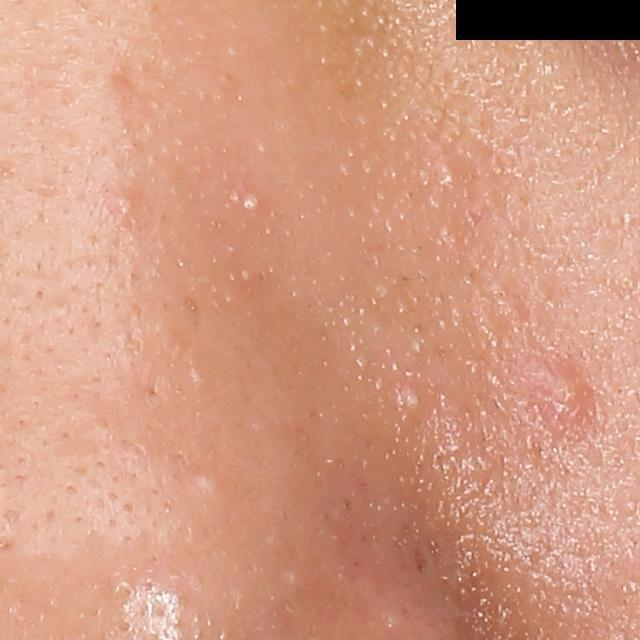comedo: (189, 464, 229, 501), (433, 155, 463, 188), (398, 386, 427, 415)
papule: (527, 359, 592, 426)
pustule: (235, 188, 264, 218)
